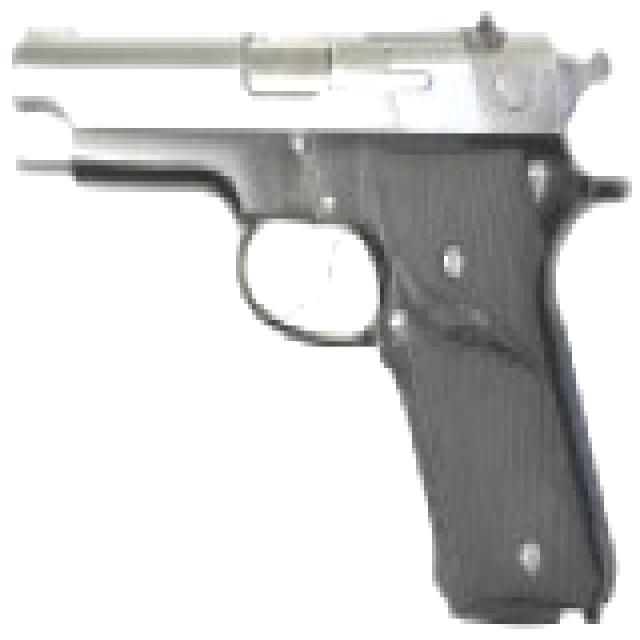pistol: (12, 10, 616, 602)
